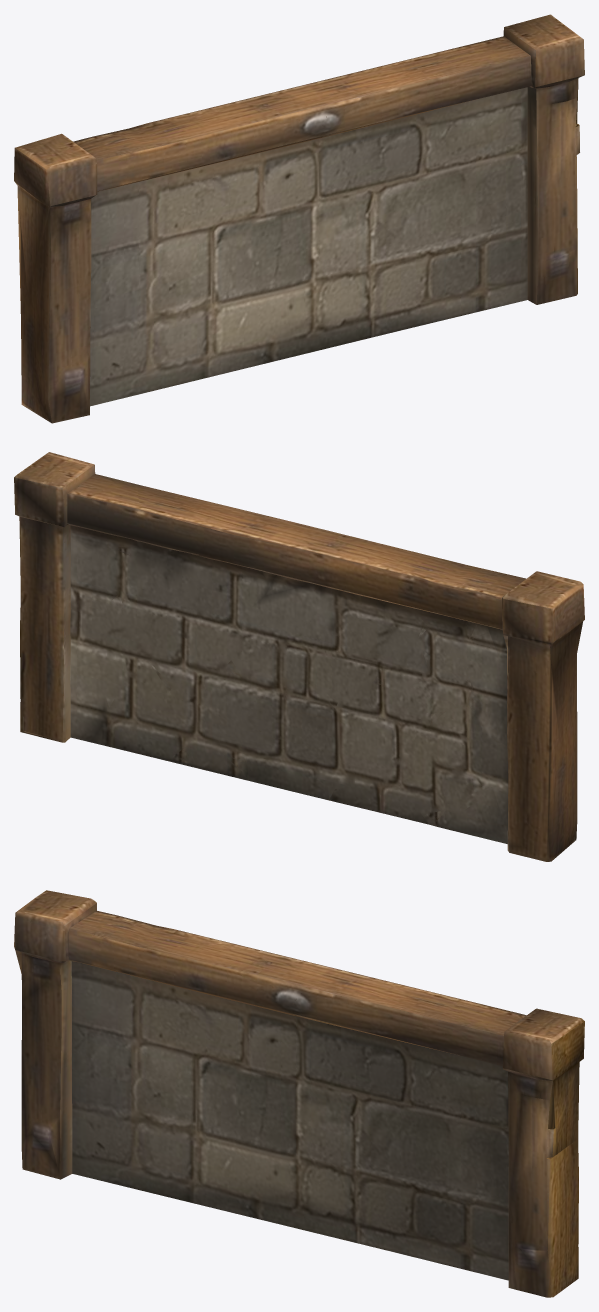
3 renders of one model, top to bottom at view 1: azimuth 30°, elevation 25°; view 2: azimuth 150°, elevation 25°; view 3: azimuth 330°, elevation 25°, orthographic.
Visible parts, largest first — view 1: geometry_0; view 2: geometry_0; view 3: geometry_0.
Boxes of the visible parts, x1,y1,x2,y2 form: geometry_0: (14, 14, 584, 423); geometry_0: (14, 452, 584, 861); geometry_0: (14, 890, 584, 1297).
Size of the model in its own units: 1.99 by 0.9179 by 0.2239.
Materials: 1 (1 with a texture image).
